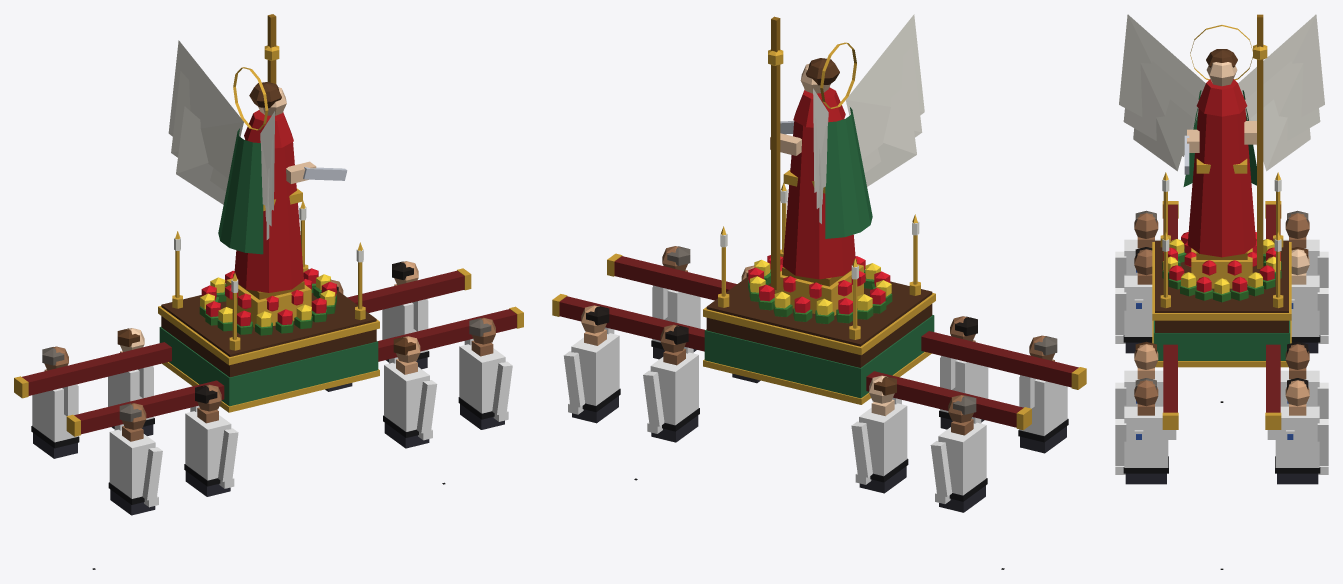
File: anda_san_rafael_body.obj
3 renders of one model, left to right at view 1: azimuth 30°, elevation 25°; view 2: azimuth 150°, elevation 25°; view 3: azimuth 270°, elevation 25°, orthographic. The views are drawn at different scales.
Parts seen in each view (by area): view 1: anda_san_rafael_body; view 2: anda_san_rafael_body; view 3: anda_san_rafael_body.
Boxes of the visible parts, x1,y1,x2,y2 form: anda_san_rafael_body: [14, 14, 523, 569]; anda_san_rafael_body: [552, 14, 1086, 569]; anda_san_rafael_body: [1115, 14, 1328, 569].
Bounding box in the file's own units: 4.16 × 4.34 × 1.75.
